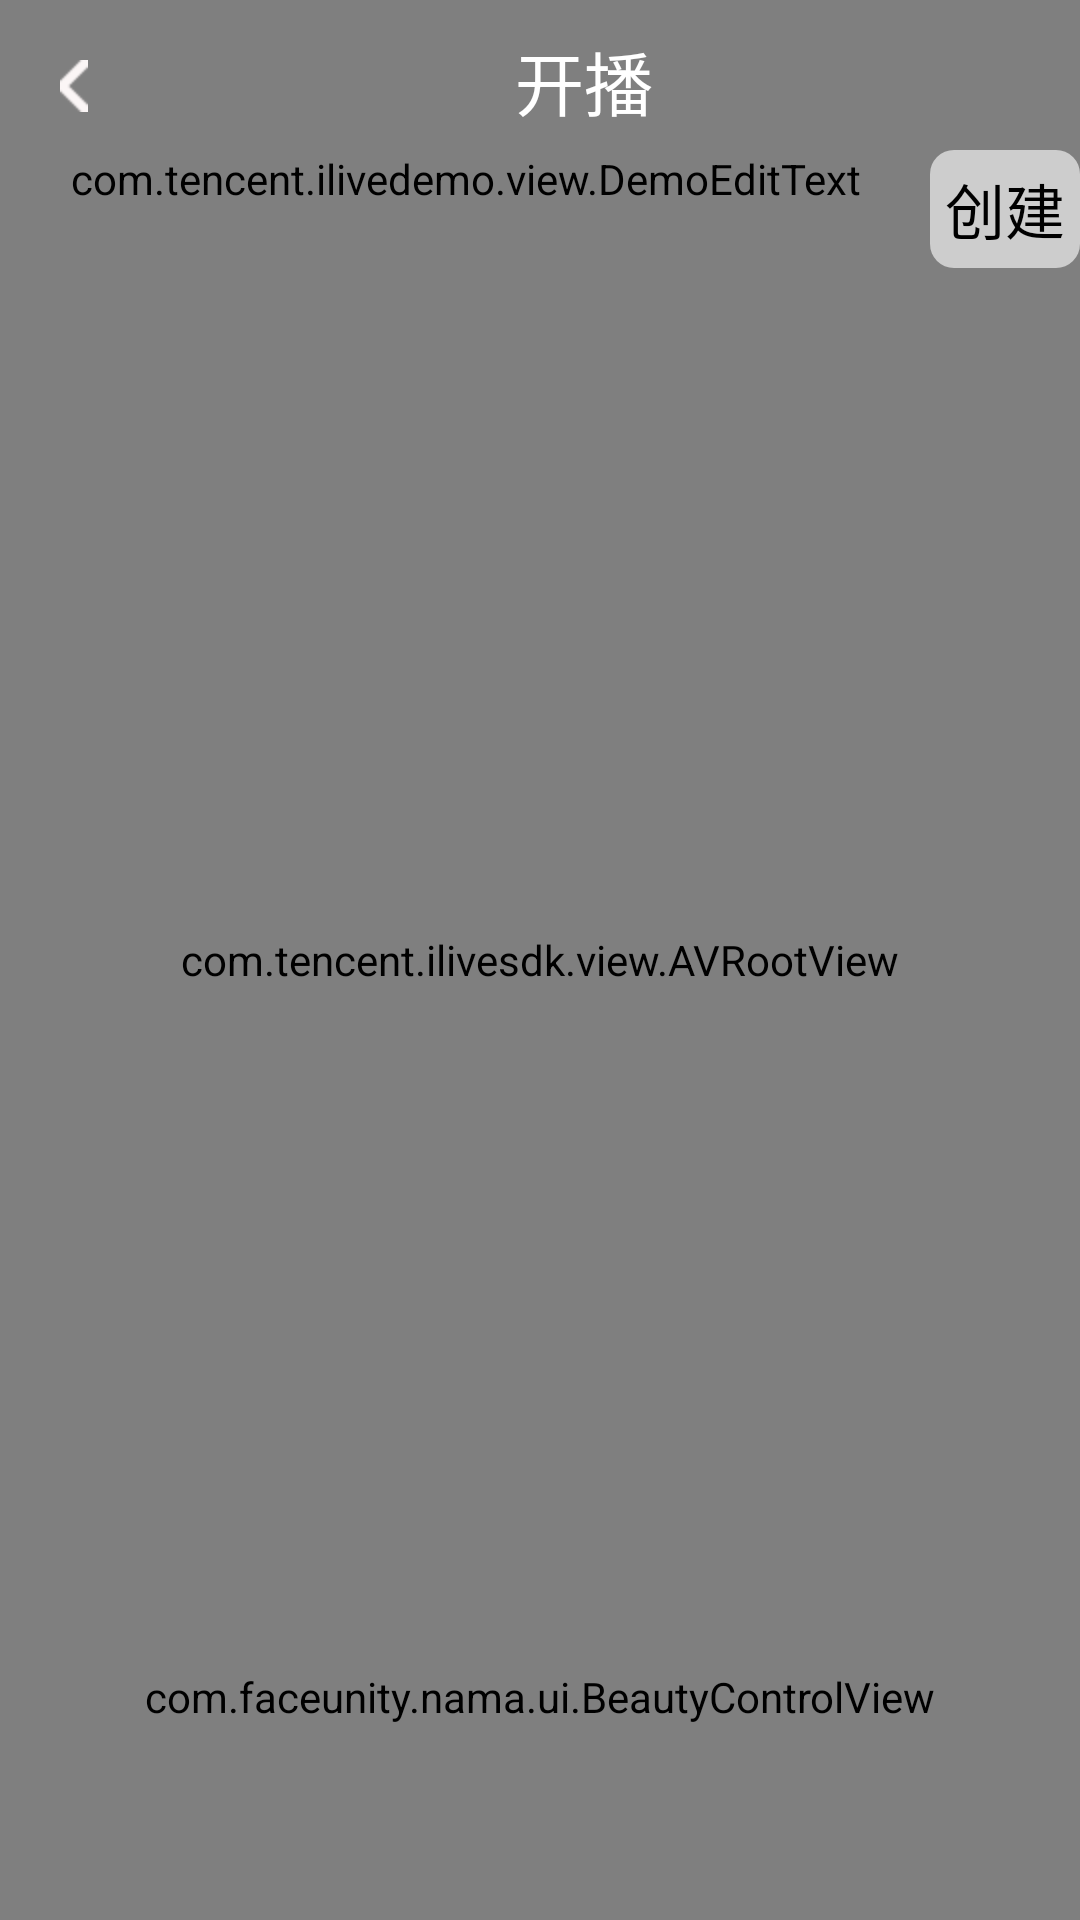

Named icons in this screenshot (1080×1920) and their bounding boxes, Rect(x1, y1, x2, y2):
left: Rect(60, 60, 88, 112)
